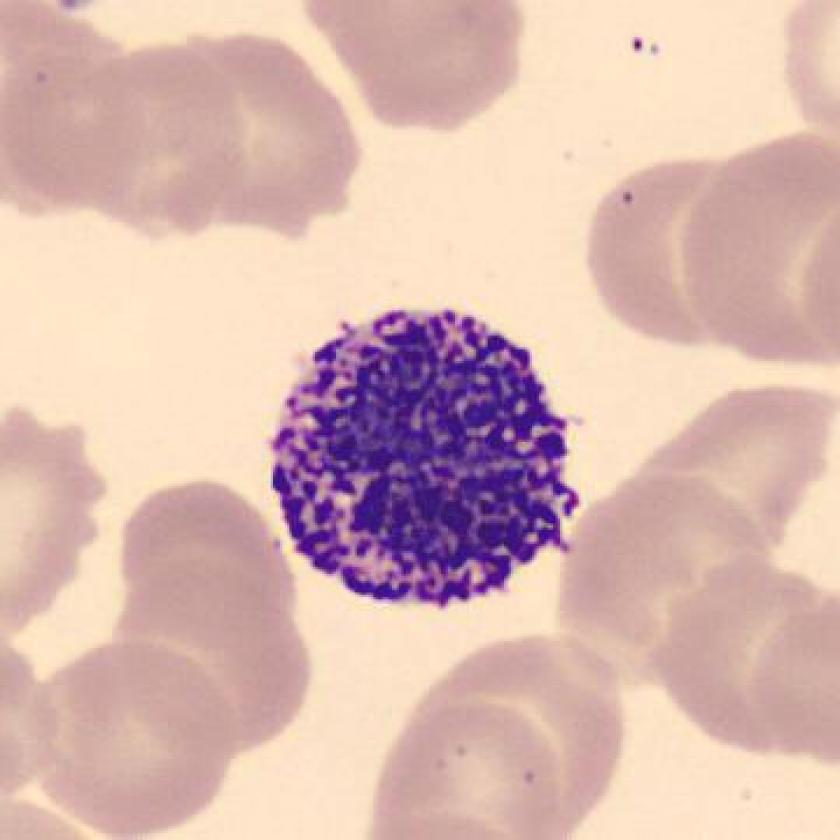basophil: (265, 300, 584, 608)
